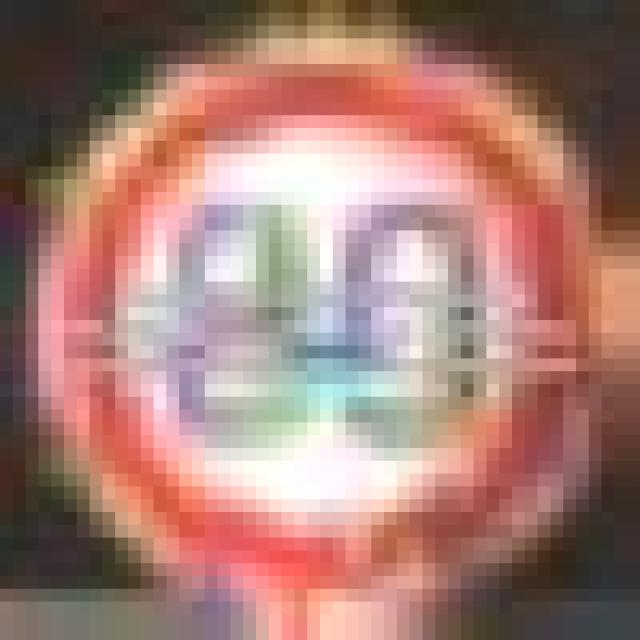speed_limit_50: (26, 26, 576, 563)
